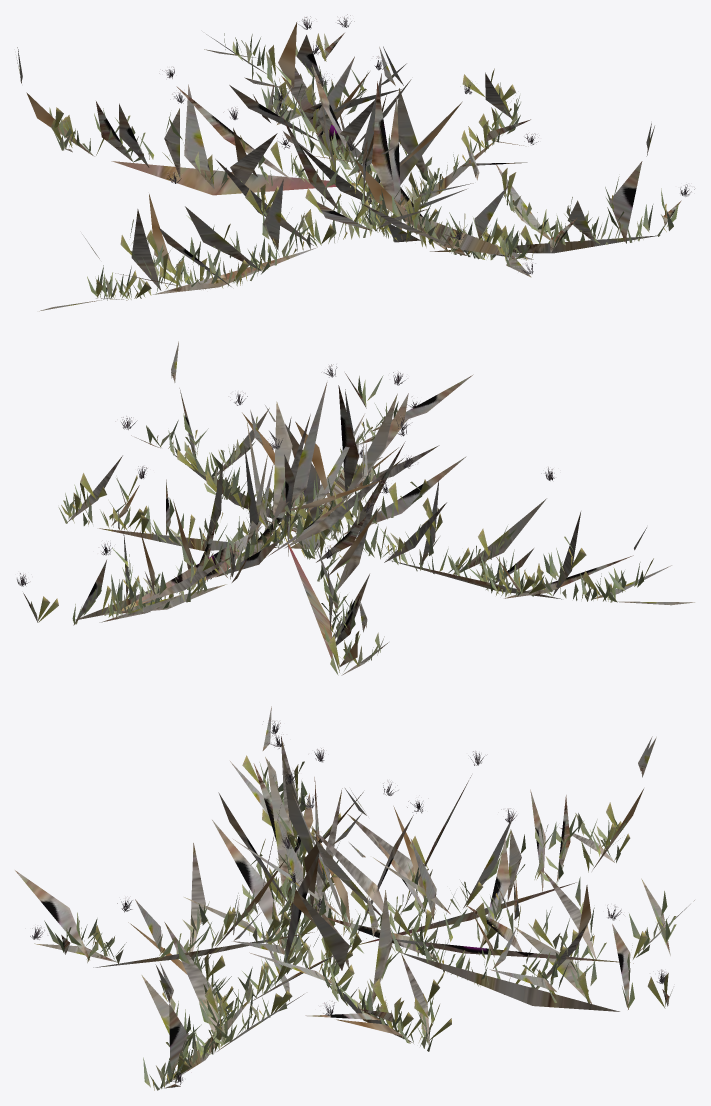
File: leipoldtia_schultzei.glb
3 renders of one model, top to bottom at view 1: azimuth 30°, elevation 25°; view 2: azimuth 150°, elevation 25°; view 3: azimuth 270°, elevation 25°, orthographic. The views are drawn at different scales.
Parts seen in each view (by area): view 1: leipoldtia_schultzei_Large_LOD0; view 2: leipoldtia_schultzei_Large_LOD0; view 3: leipoldtia_schultzei_Large_LOD0.
Part boxes in pixels (x1,y1,x2,y2): leipoldtia_schultzei_Large_LOD0: (16, 14, 695, 311); leipoldtia_schultzei_Large_LOD0: (17, 341, 694, 675); leipoldtia_schultzei_Large_LOD0: (15, 706, 694, 1090).
Size of the model in its own units: 0.9051 by 0.2876 by 0.7966.
Materials: 1 (1 with a texture image).
